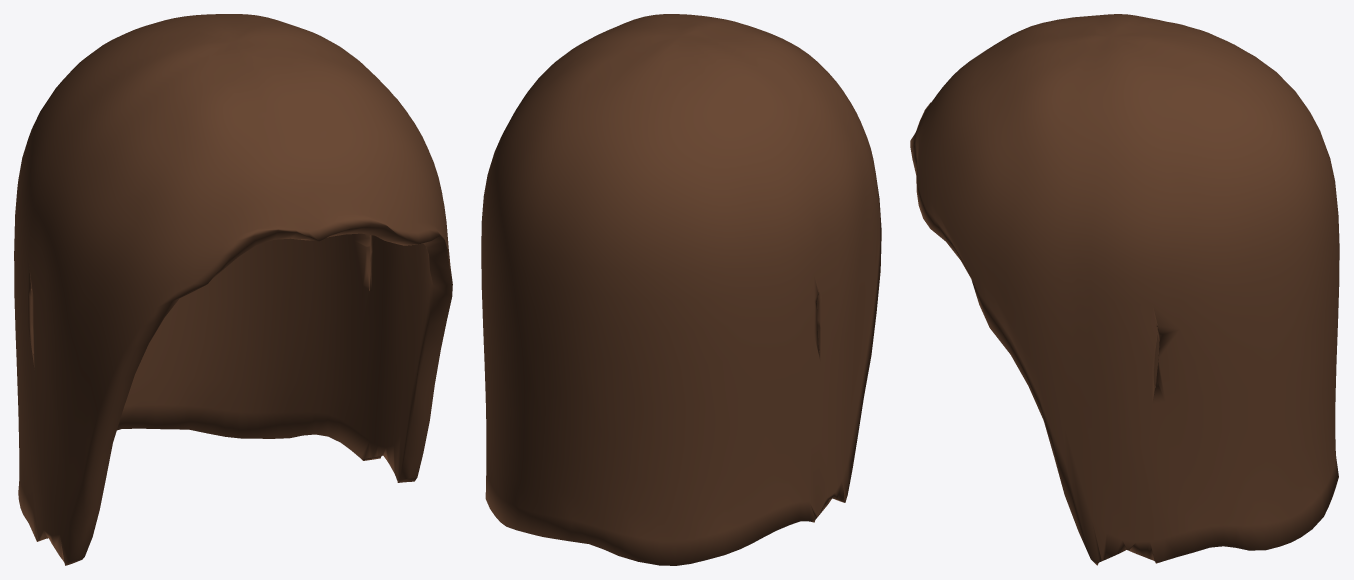
The model's file is 4HT-feminino.glb.
3 renders of one model, left to right at view 1: azimuth 30°, elevation 25°; view 2: azimuth 150°, elevation 25°; view 3: azimuth 270°, elevation 25°, orthographic. The views are drawn at different scales.
Visible parts, largest first — view 1: sculpted-scalp; view 2: sculpted-scalp; view 3: sculpted-scalp.
Part boxes in pixels (left/top/right/bottom): sculpted-scalp: left=14, top=14, right=452, bottom=565; sculpted-scalp: left=481, top=14, right=881, bottom=565; sculpted-scalp: left=910, top=14, right=1339, bottom=565.
Bounding box in the file's own units: 0.0304 × 0.039 × 0.0331.
